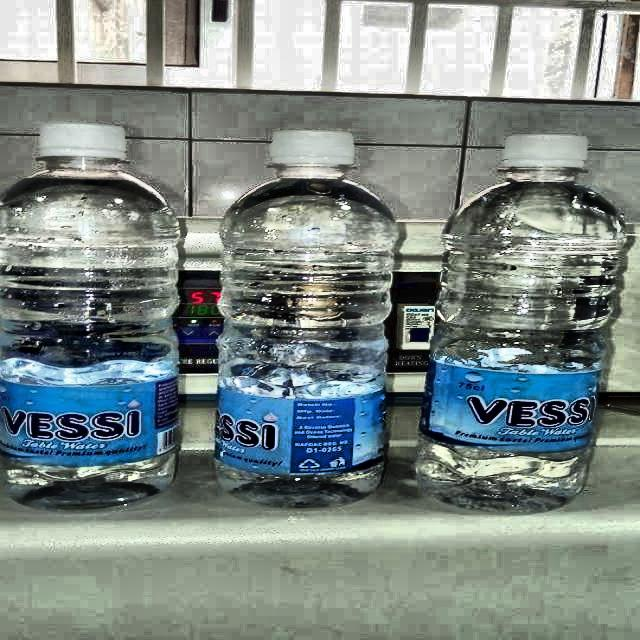plastic bottle: (418, 136, 626, 510), (215, 130, 398, 508), (0, 123, 179, 509)
